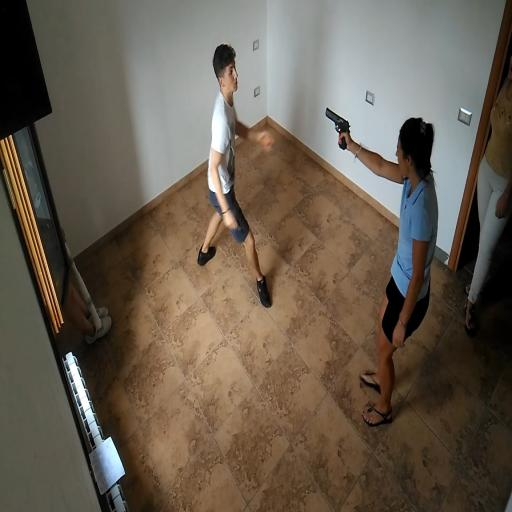violencia: (187, 20, 449, 454)
